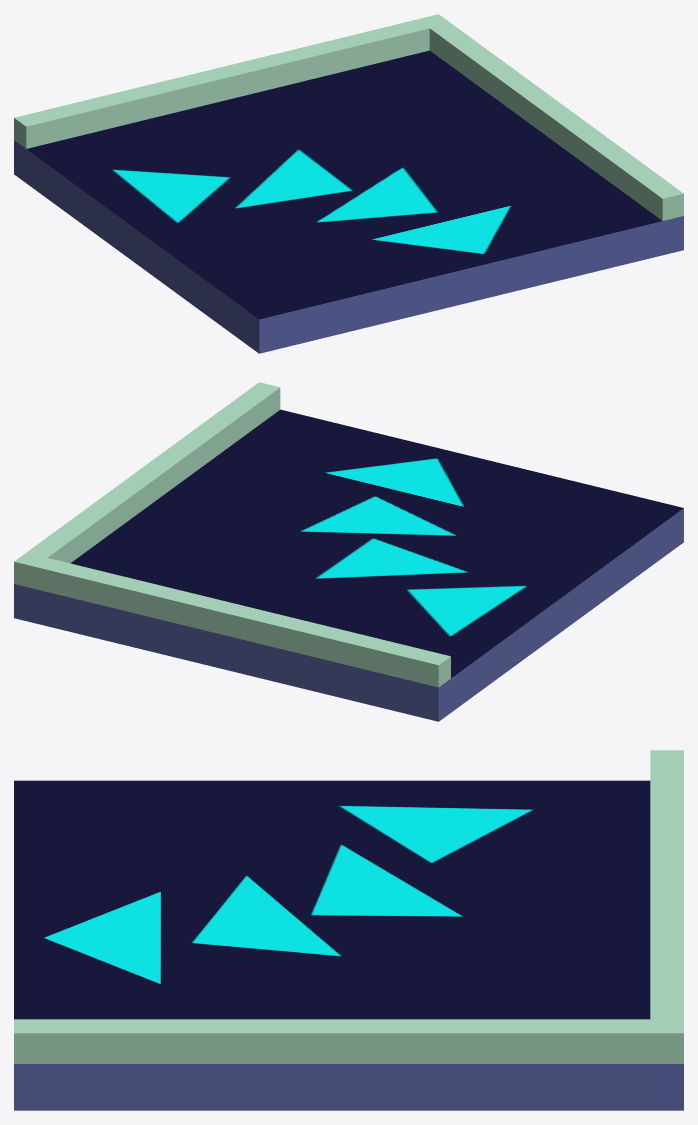
The model's file is conveer_L.fbx.
3 renders of one model, top to bottom at view 1: azimuth 30°, elevation 25°; view 2: azimuth 150°, elevation 25°; view 3: azimuth 270°, elevation 25°, orthographic. The views are drawn at different scales.
Visible parts, largest first — view 1: Cube, Cube.001, Cube.002; view 2: Cube, Cube.001, Cube.002; view 3: Cube, Cube.002, Cube.001.
Part boxes in pixels (box(x1,y1,x2,y2)): Cube: box(14, 50, 683, 353); Cube.001: box(14, 14, 450, 148); Cube.002: box(418, 14, 683, 220); Cube: box(14, 409, 683, 721); Cube.001: box(14, 552, 450, 687); Cube.002: box(14, 382, 280, 588); Cube: box(14, 780, 683, 1110); Cube.002: box(14, 1019, 683, 1063); Cube.001: box(650, 750, 683, 1063).
Size of the model in its own units: 200 by 25.43 by 200.
3 materials, 1 textured.
